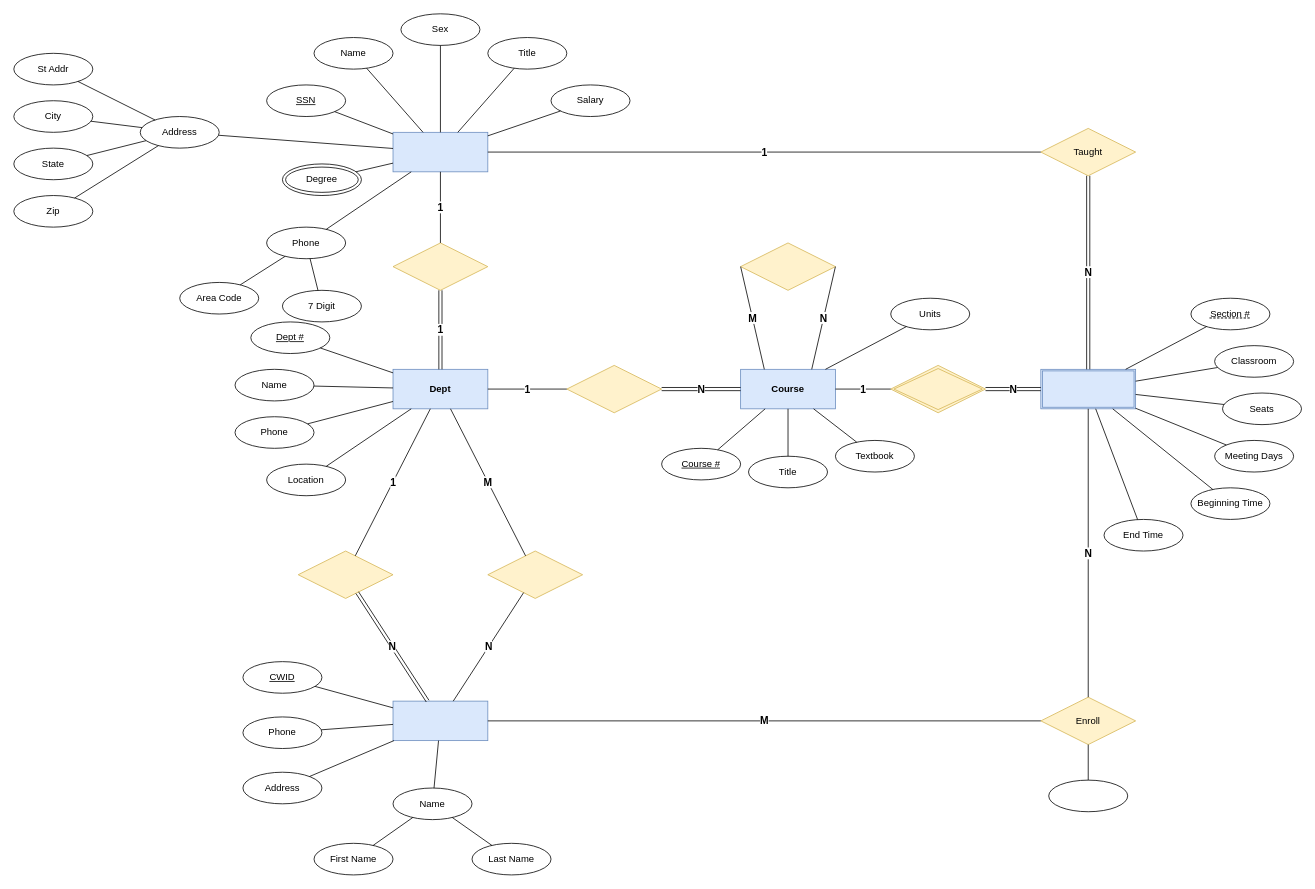
Image size: 1315x889. Some labels were removed from this diagram. Each missing label, with the centre of its shape:
Chairperson: pixel 440 266
Grade: pixel 1088 795
Has: pixel 938 389
Major: pixel 345 574
Minor: pixel 535 574
Offer: pixel 614 389
Prereq: pixel 787 266
Prof: pixel 440 152
Section: pixel 1088 389
Student: pixel 440 720
